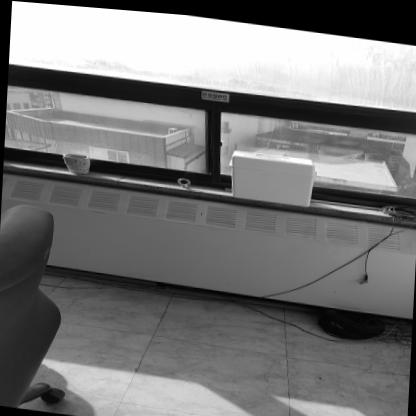DDL: (224, 142, 318, 202)
